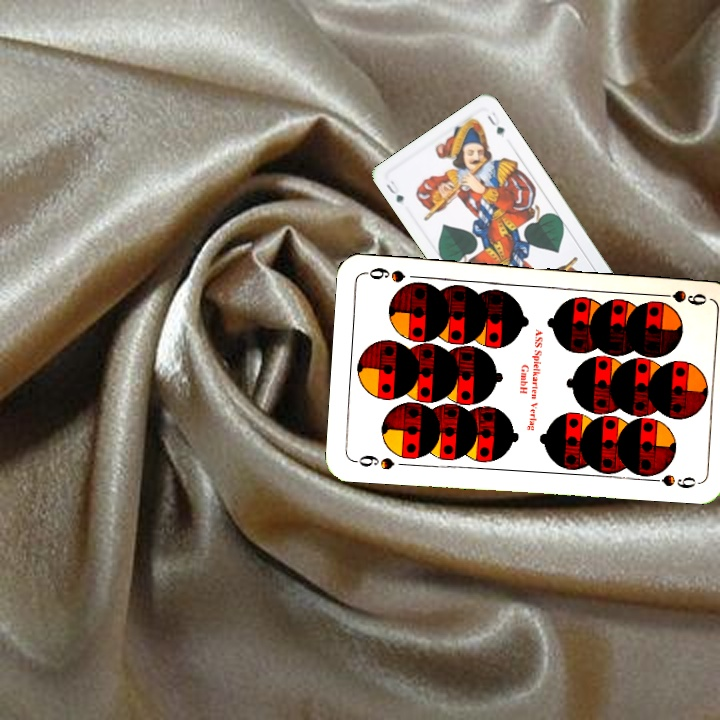GU: (382, 176, 406, 206)
S9: (651, 286, 710, 308), (350, 450, 397, 473)
